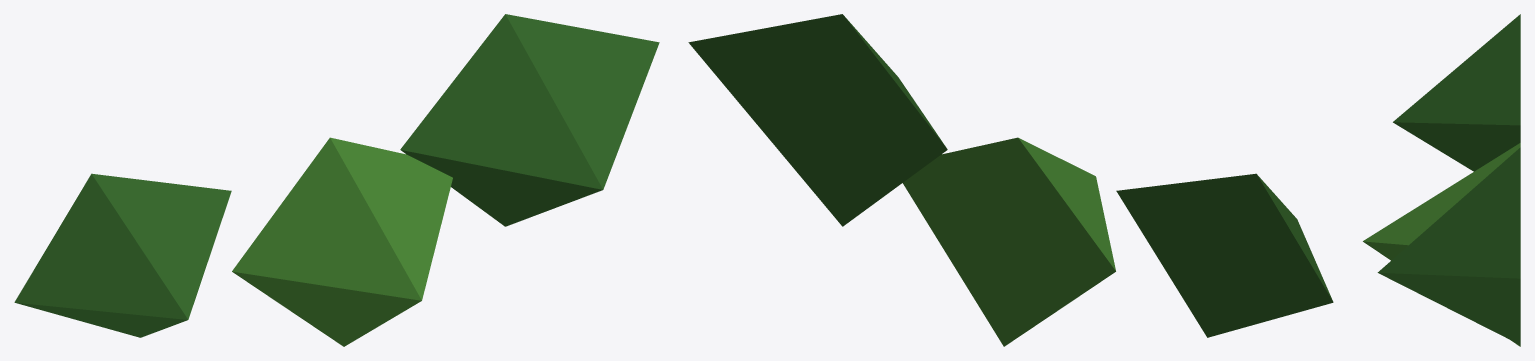
File: shrubs_low_cluster.obj
The picture shows the model from 3 angles, left to right: view 1: azimuth 30°, elevation 25°; view 2: azimuth 150°, elevation 25°; view 3: azimuth 270°, elevation 25°; orthographic projection. The views are drawn at different scales.
Parts seen in each view (by area): view 1: shrubs_low_cluster; view 2: shrubs_low_cluster; view 3: shrubs_low_cluster.
Part boxes in pixels (left/top/right/bottom): shrubs_low_cluster: left=14, top=14, right=659, bottom=346; shrubs_low_cluster: left=688, top=14, right=1333, bottom=346; shrubs_low_cluster: left=1363, top=14, right=1520, bottom=346.
Bounding box in the file's own units: 1.84 × 0.8 × 0.42.
